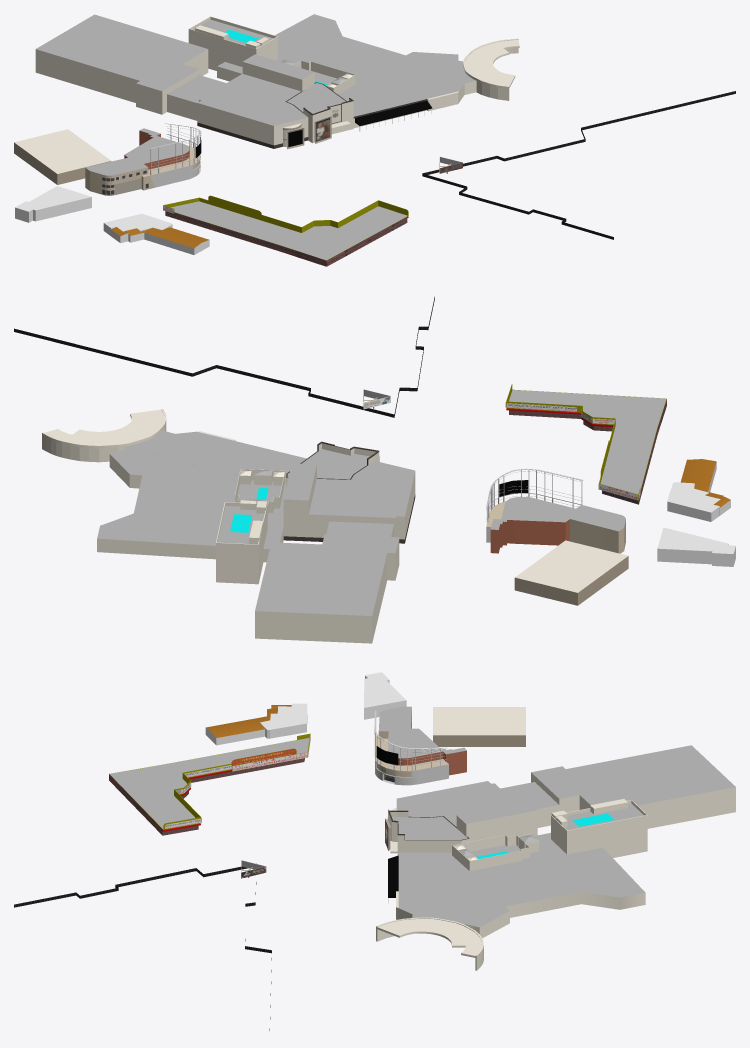
Rendered from Buildings 1.fbx.
3 views of the same model, one above another, from view 1: azimuth 30°, elevation 25°; view 2: azimuth 150°, elevation 25°; view 3: azimuth 270°, elevation 25° (orthographic). The views are drawn at different scales.
Visible parts, largest first — view 1: bezier2; view 2: bezier2; view 3: bezier2.
Part boxes in pixels (x1,y1,x2,y2): bezier2: (14,14,735,266); bezier2: (14,296,735,643); bezier2: (14,672,735,1030).
Size of the model in its own units: 444 by 25.39 by 388.
